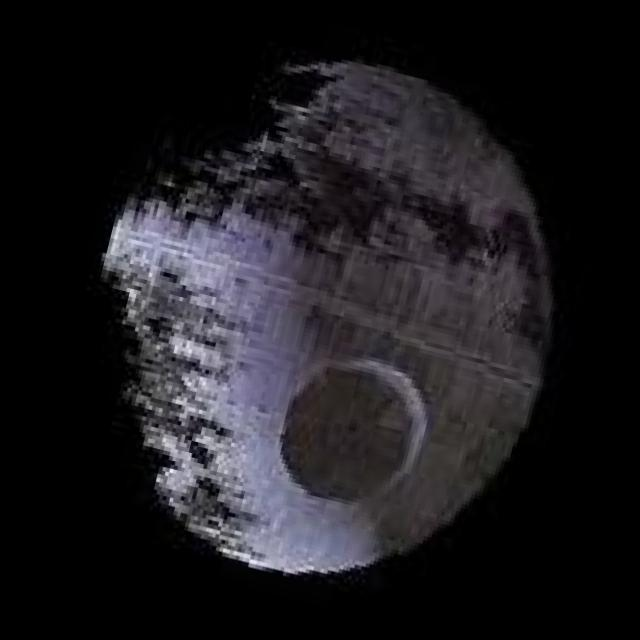Death Star: (28, 3, 613, 633)
